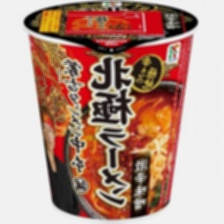paper_cup: (18, 0, 205, 224)
